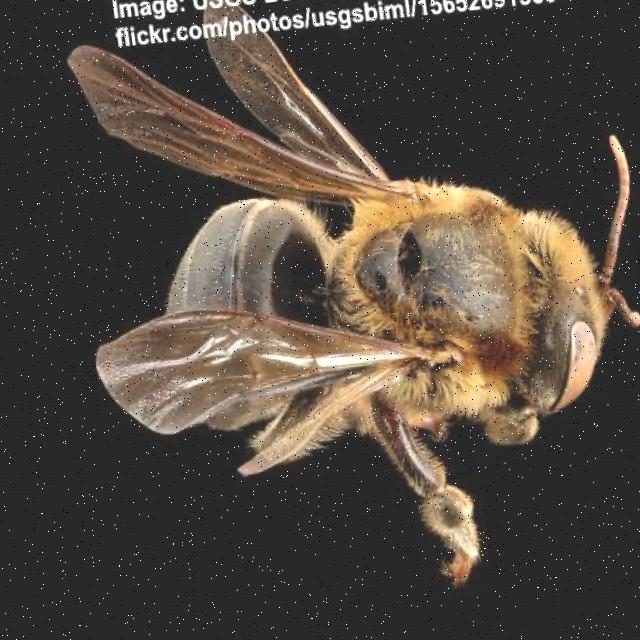Meliponula: (33, 0, 640, 629)
